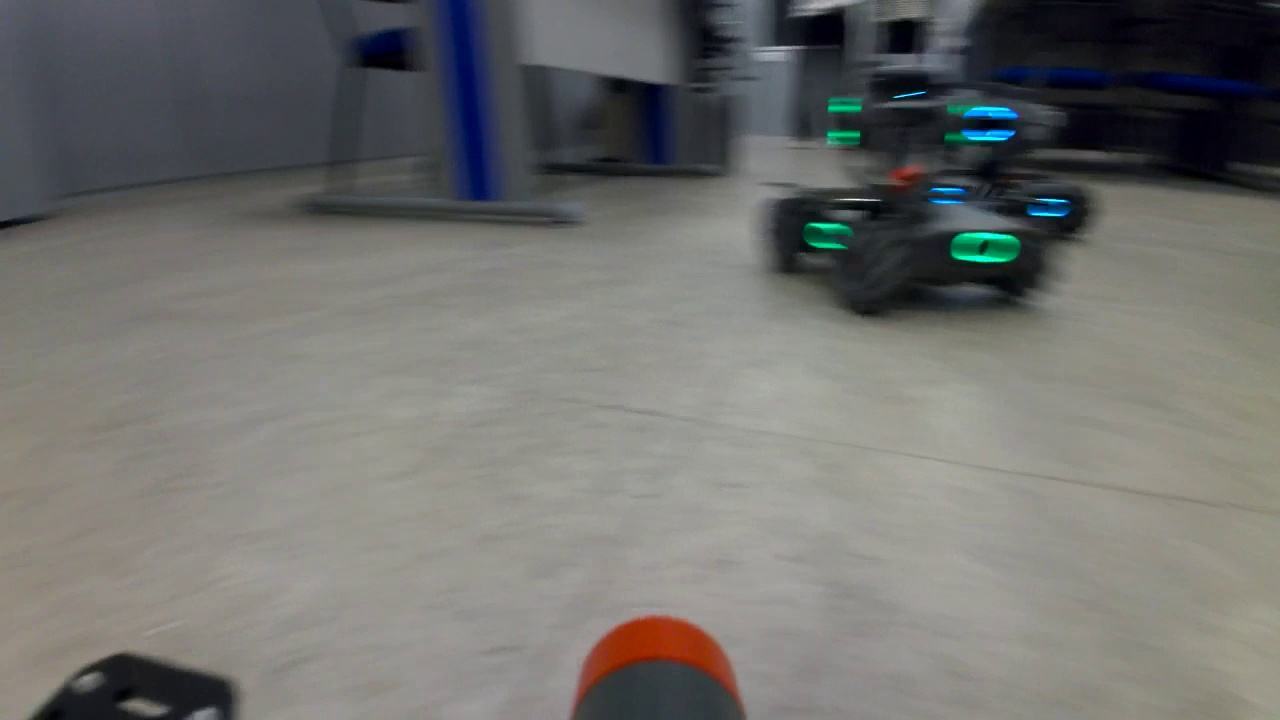robot: (751, 59, 1052, 324)
